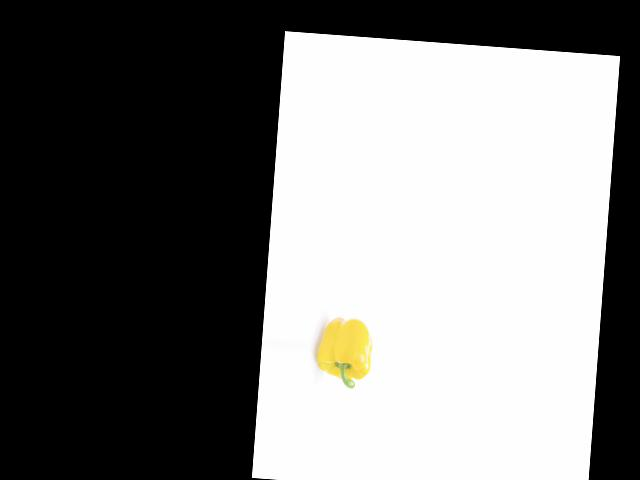bell_pepper: (314, 313, 377, 396)
